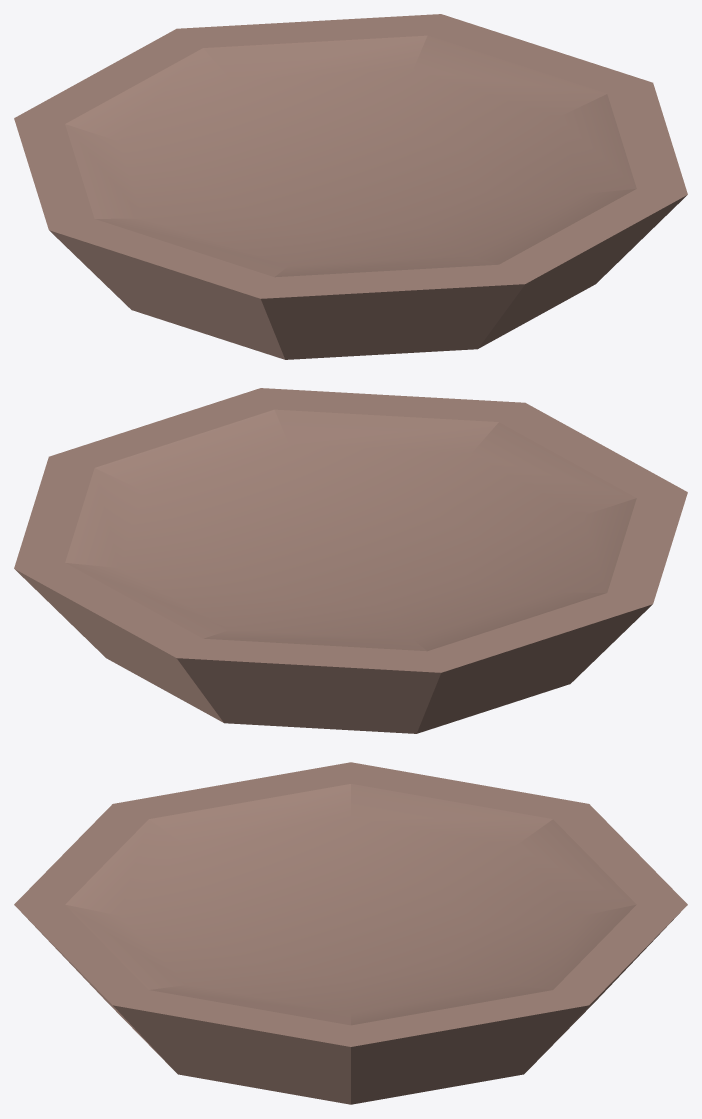
Rendered from Props_plate_03.fbx.
3 renders of one model, top to bottom at view 1: azimuth 30°, elevation 25°; view 2: azimuth 150°, elevation 25°; view 3: azimuth 270°, elevation 25°, orthographic. The views are drawn at different scales.
Visible parts, largest first — view 1: bowl; view 2: bowl; view 3: bowl.
Boxes of the visible parts, bbox=[...] form: bowl: bbox=[14, 14, 687, 359]; bowl: bbox=[14, 388, 687, 733]; bowl: bbox=[14, 762, 687, 1104].
Bounding box in the file's own units: 160 × 25.35 × 160.
